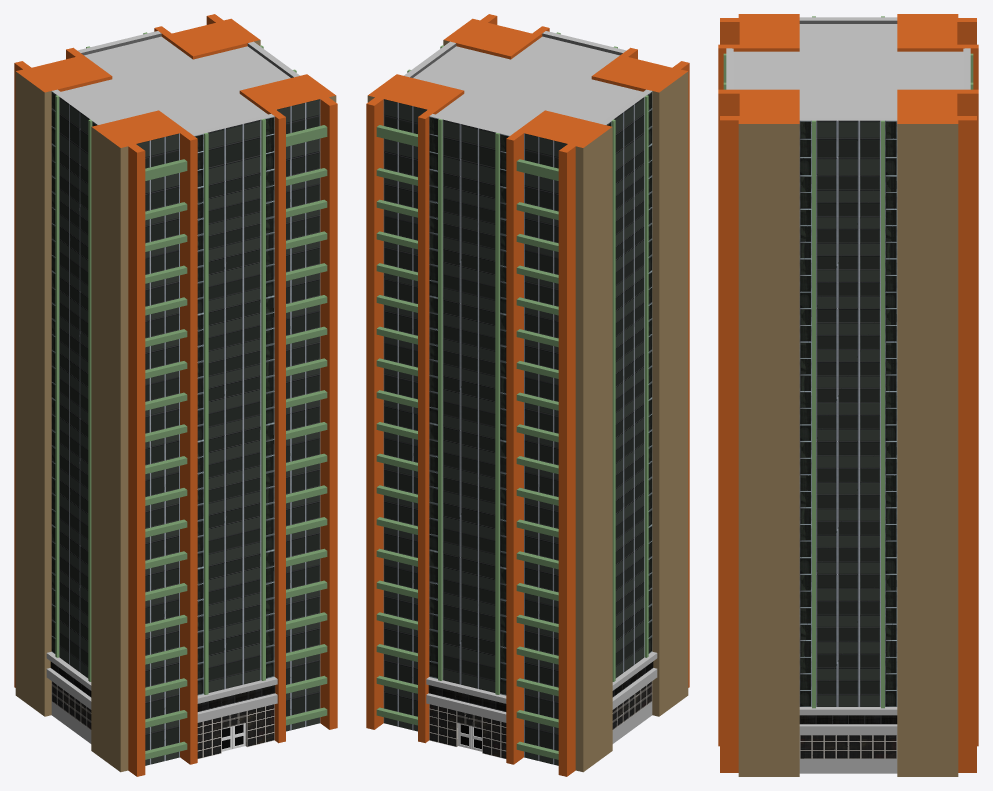
Rendered from Tower-01.fbx.
3 views of the same model, side by side, from view 1: azimuth 30°, elevation 25°; view 2: azimuth 150°, elevation 25°; view 3: azimuth 270°, elevation 25° (orthographic). The views are drawn at different scales.
Parts seen in each view (by area): view 1: Building; view 2: Building; view 3: Building.
Part boxes in pixels (x1=…): Building: x1=14, y1=14, x2=337, y2=776; Building: x1=366, y1=14, x2=689, y2=776; Building: x1=718, y1=14, x2=978, y2=776.
Size of what is drawn, in the model's own units: 21.34 by 59 by 21.31.
